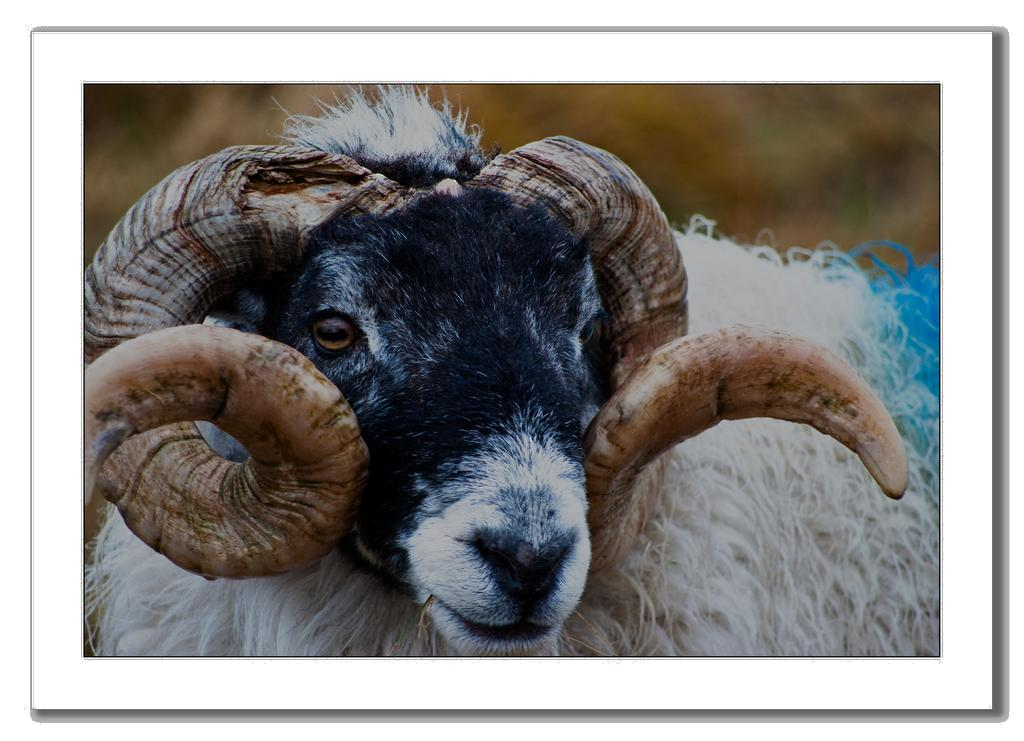Sheep: (84, 85, 939, 654)
